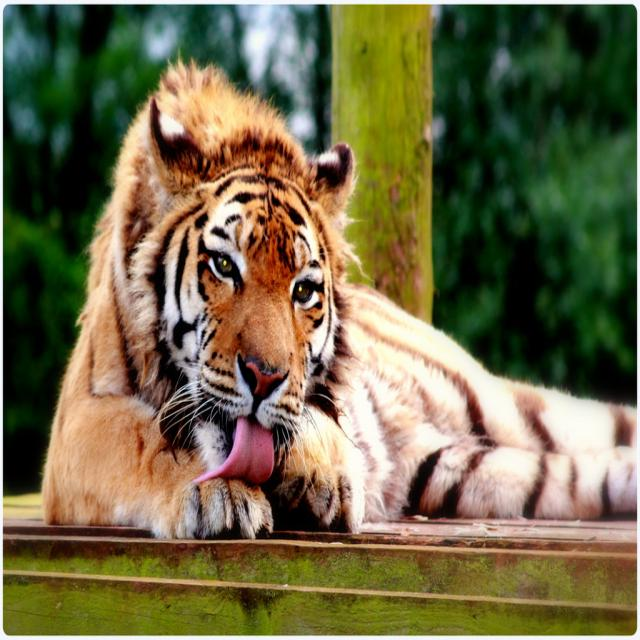Tiger: (39, 53, 640, 540)
